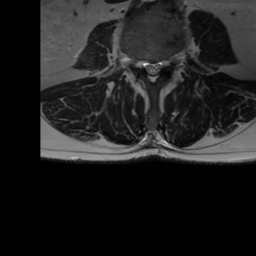CCS_normal: (149, 51, 155, 89)
LFS_normal: (163, 49, 171, 72)
LLS_stenosis: (155, 51, 163, 82)
RFS_normal: (133, 51, 141, 75)
RLS_normal: (141, 51, 149, 80)
